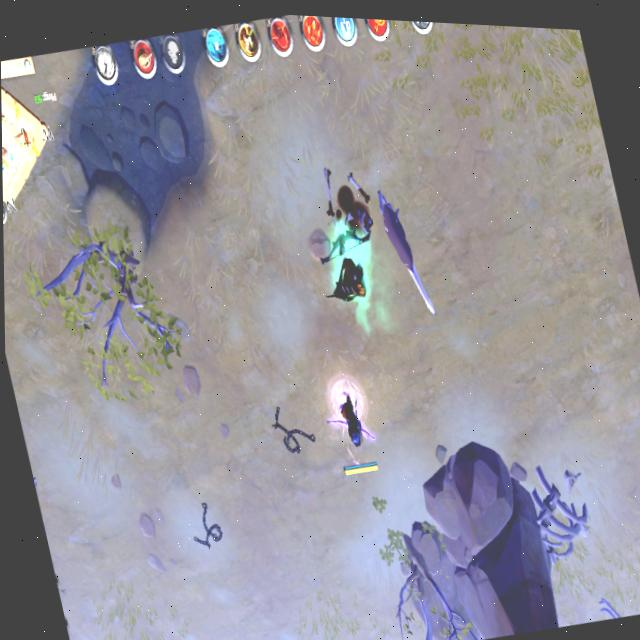ore: (368, 175, 443, 329), (304, 203, 388, 329), (584, 592, 639, 625), (25, 441, 47, 510)
red: (319, 373, 387, 485)
